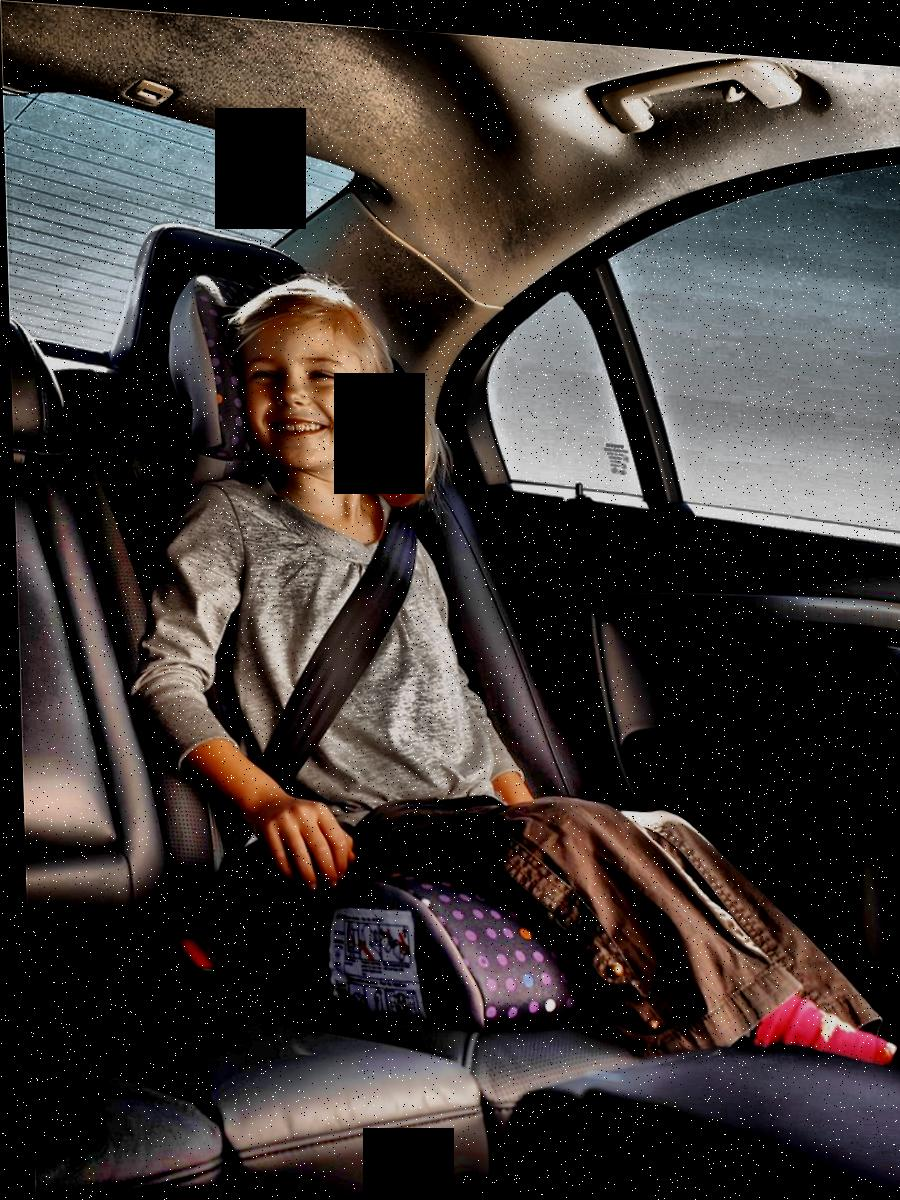seatbelt: (248, 397, 468, 784)
